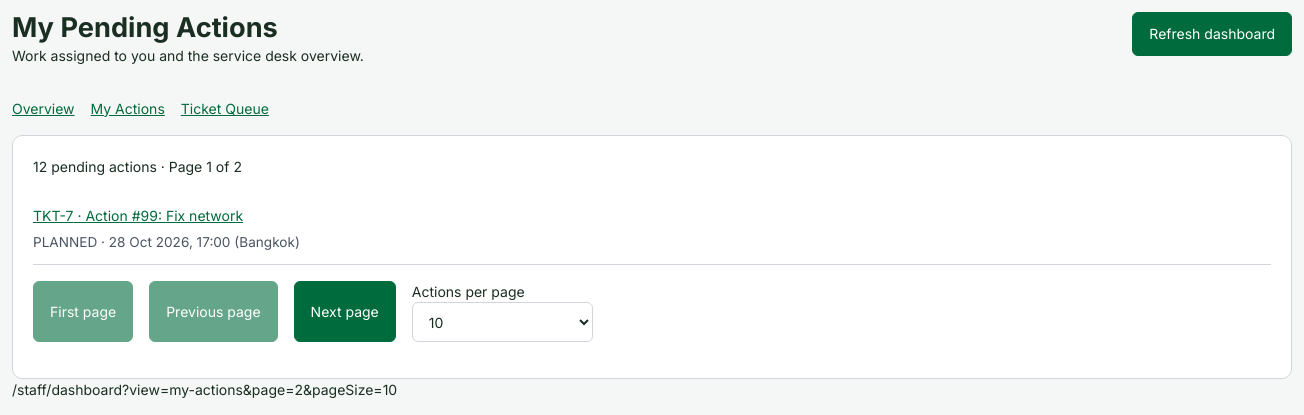
Test: Staff Dashboard › loads paged My Actions from URL and resets page when size changes
Select "25" in the dropdown labelled "Actions per page" at (502, 322), box [412, 302, 593, 342]
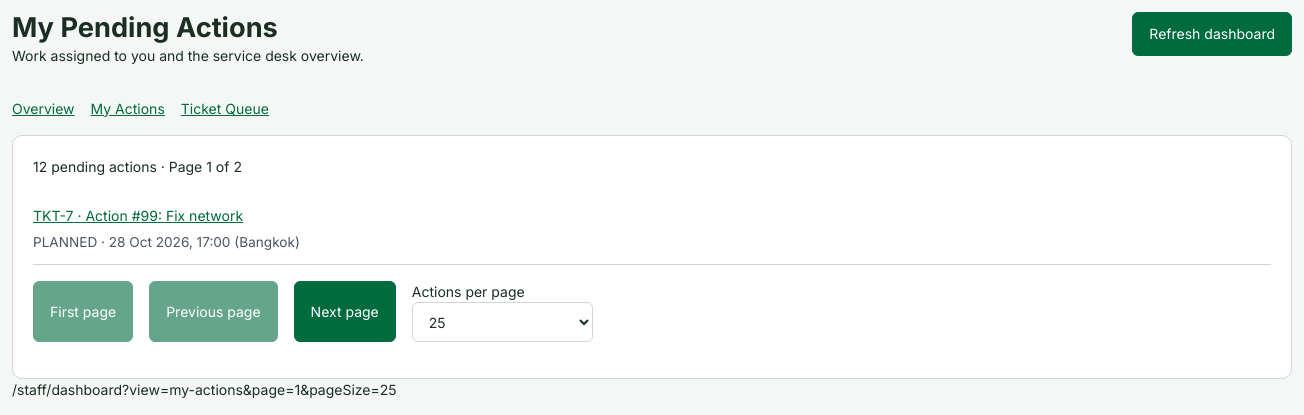
Check: the text with test id "location" shows "view=my-actions&page=1&pageSize=25", box [122, 381, 397, 398]
